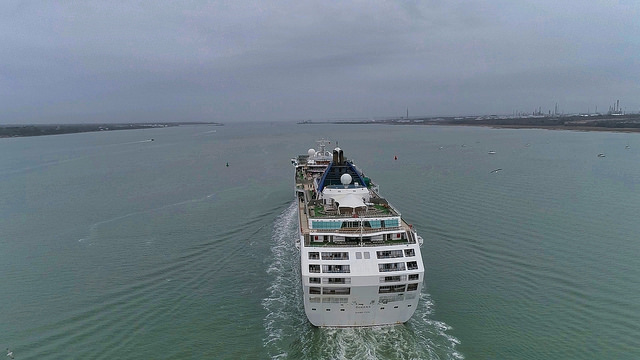cruise_ship: (291, 137, 431, 334)
